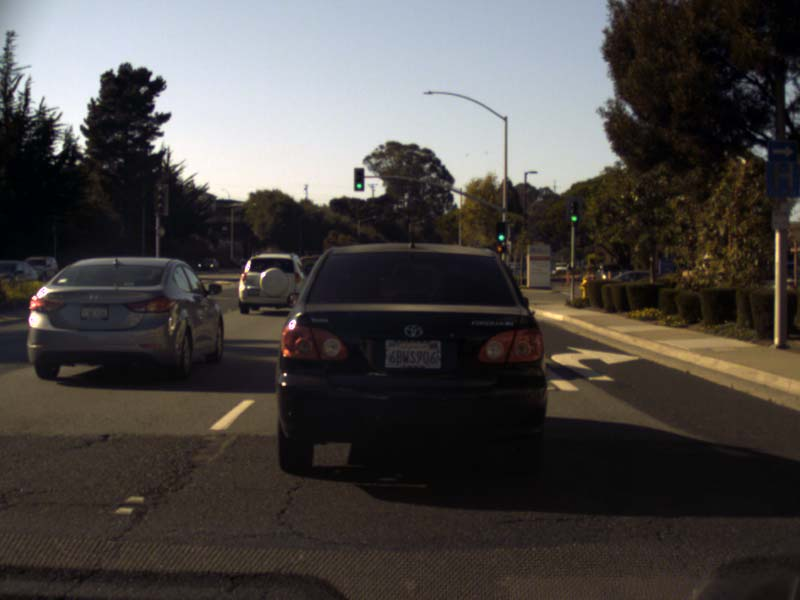Green: (353, 168, 364, 190), (568, 201, 578, 222), (496, 221, 505, 241)
